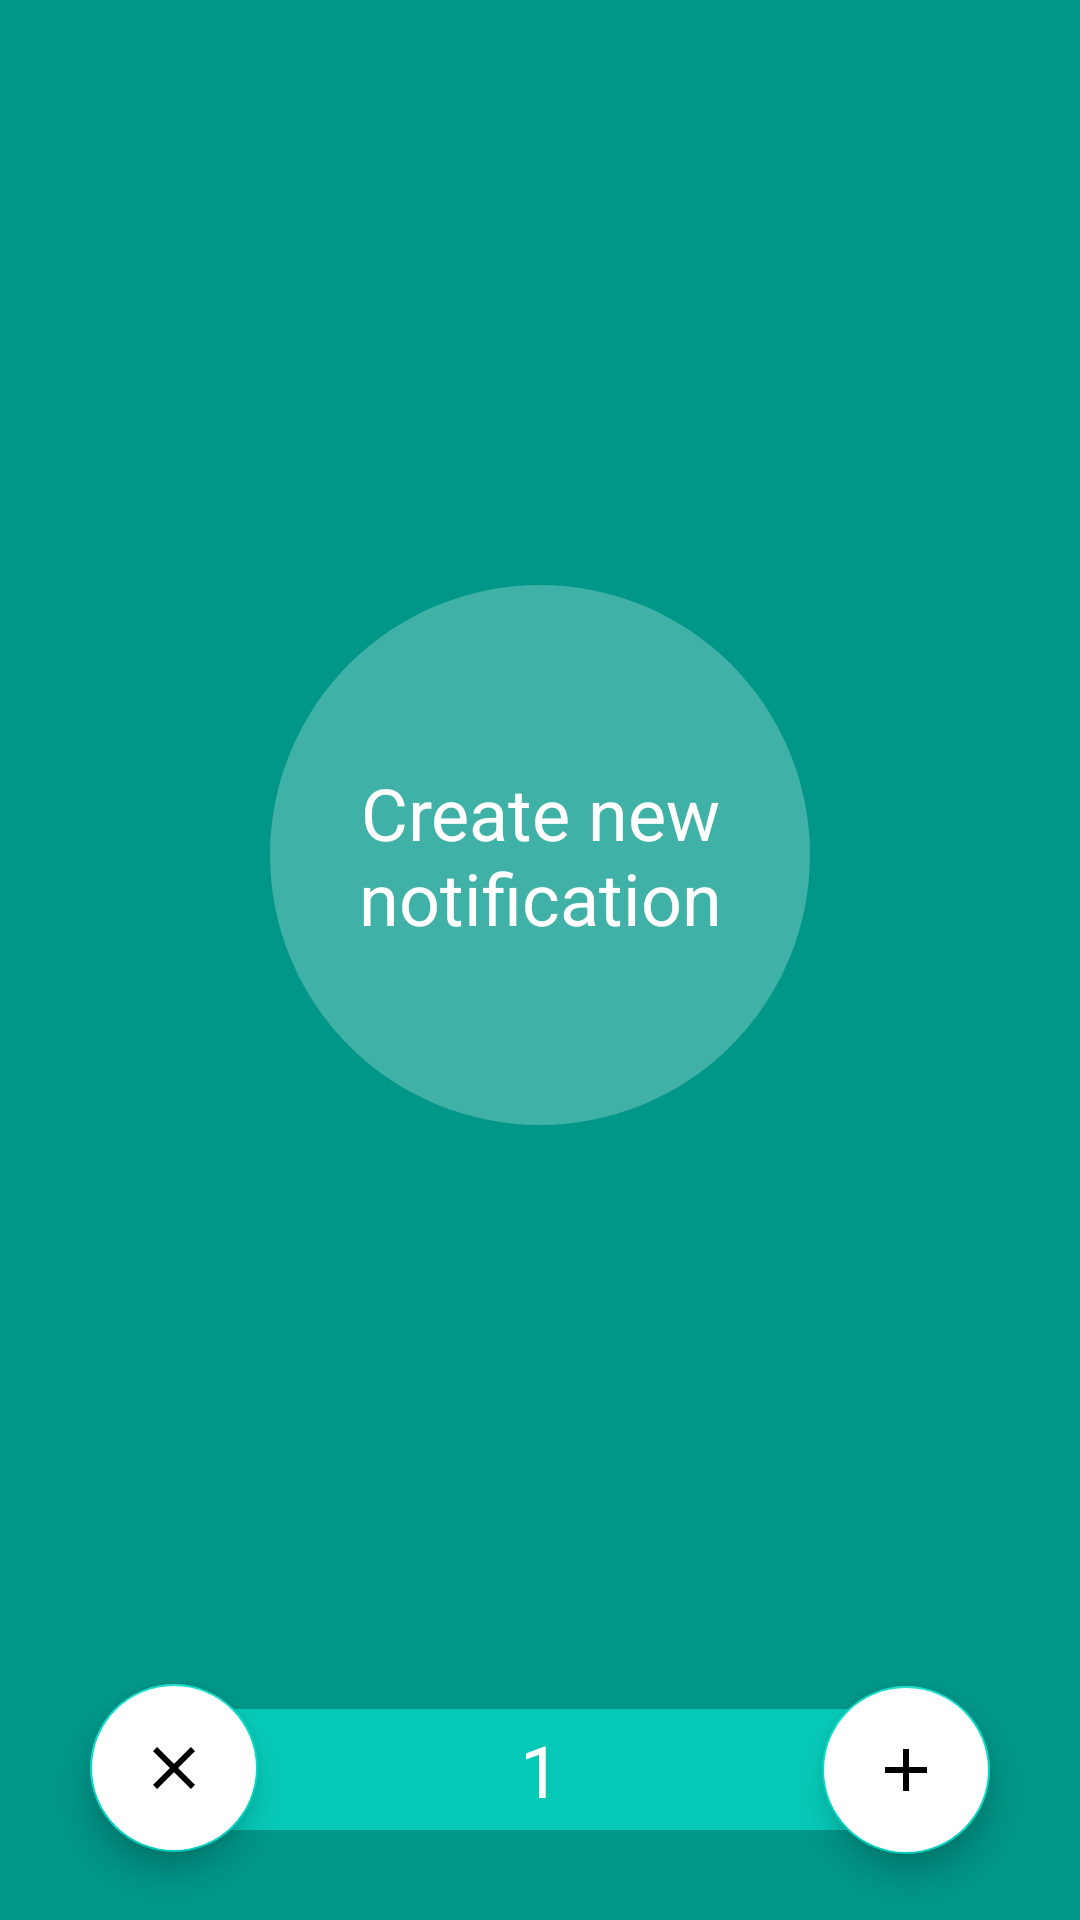

Icon click points for this 1080px x 1920px phone screenshot, format (x=x, y=y):
add: (x=906, y=1770)
clear: (x=174, y=1768)
